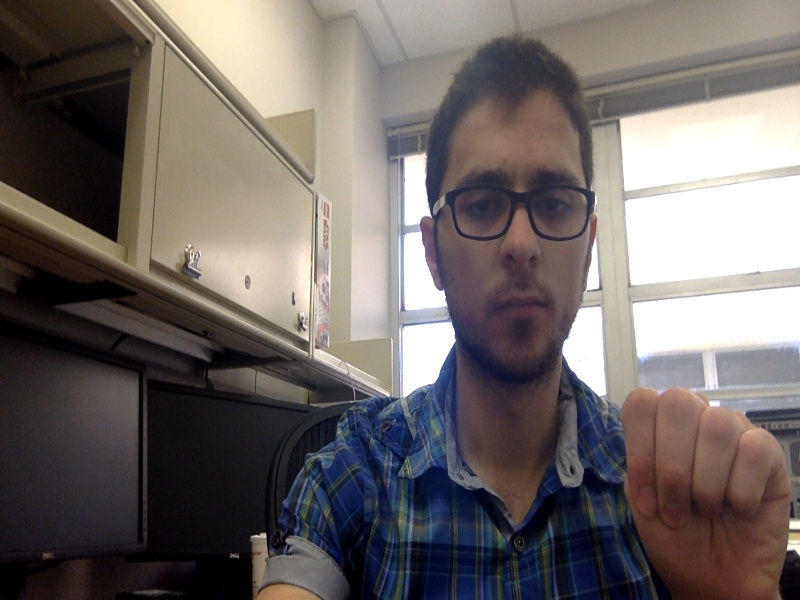0-hand: (623, 386, 790, 600)
